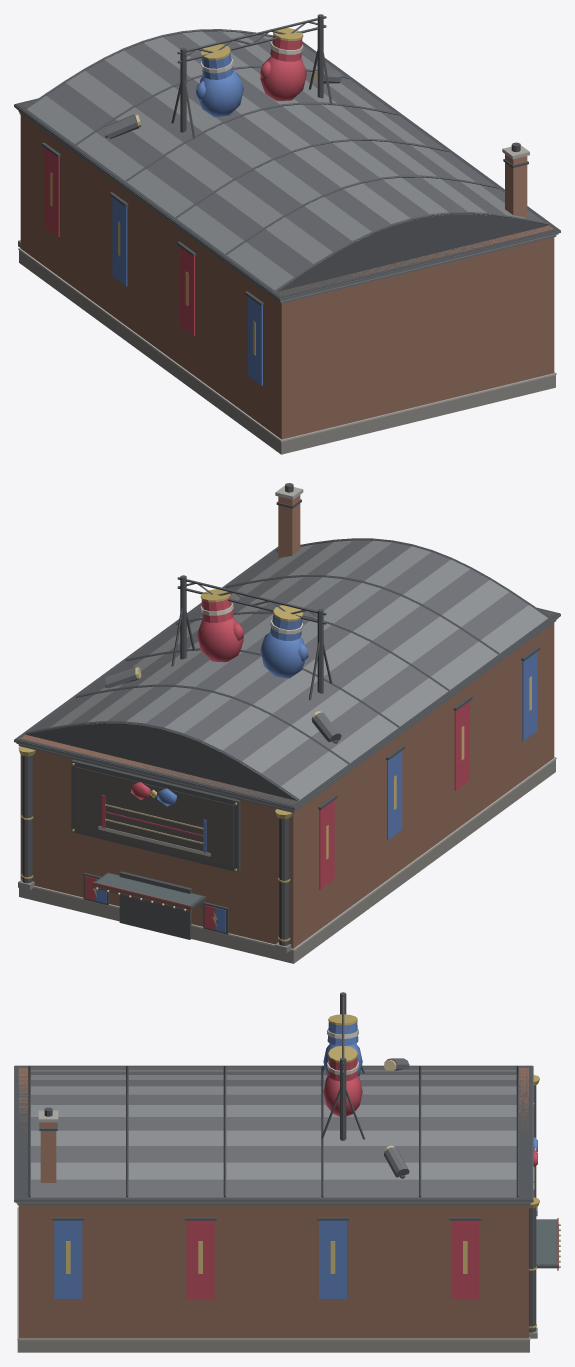
The model's file is centro-boxe-b9ea16d4.glb.
3 views of the same model, one above another, from view 1: azimuth 30°, elevation 25°; view 2: azimuth 150°, elevation 25°; view 3: azimuth 270°, elevation 25° (orthographic). The views are drawn at different scales.
Parts seen in each view (by area): view 1: centro_boxe_body, centro_boxe_wall, centro_boxe_glow; view 2: centro_boxe_body, centro_boxe_wall, centro_boxe_glow, centro_boxe_lamp; view 3: centro_boxe_body, centro_boxe_wall, centro_boxe_glow.
Part boxes in pixels (x1,y1,x2,y2): centro_boxe_body: [14, 14, 560, 441]; centro_boxe_wall: [19, 103, 555, 454]; centro_boxe_glow: [44, 28, 306, 385]; centro_boxe_body: [14, 483, 560, 953]; centro_boxe_wall: [19, 495, 555, 963]; centro_boxe_glow: [85, 589, 537, 932]; centro_boxe_lamp: [96, 667, 321, 910]; centro_boxe_body: [14, 992, 558, 1340]; centro_boxe_wall: [17, 1067, 529, 1352]; centro_boxe_glow: [54, 1014, 537, 1298].
Size of the model in its own units: 15.98 by 14.5 by 27.56.
